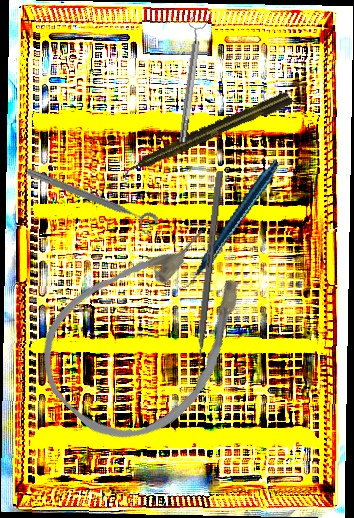Cannula: (16, 200, 284, 468)
Fixation Ring: (21, 163, 160, 239), (171, 16, 210, 144)
Handpiece: (150, 159, 306, 290), (118, 89, 295, 180)
Pusher: (191, 170, 224, 394)
